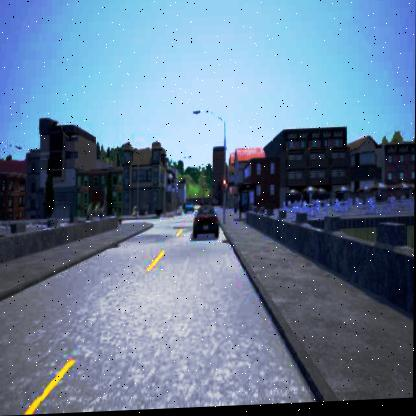vehicle: (193, 205, 219, 240)
